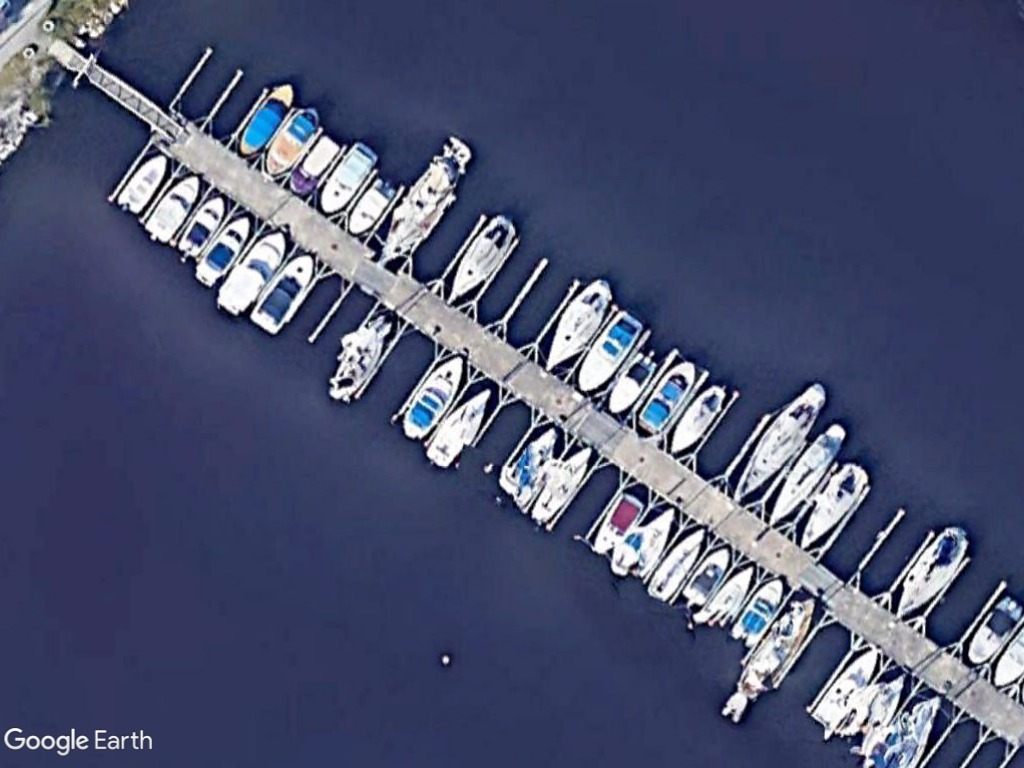boat: (727, 379, 829, 502), (763, 418, 853, 529), (888, 525, 972, 622), (541, 273, 617, 376), (211, 225, 293, 320), (443, 212, 518, 307), (396, 348, 470, 444), (794, 460, 873, 549), (422, 385, 495, 471), (574, 307, 646, 393), (248, 251, 320, 334), (260, 103, 330, 181), (643, 524, 710, 605), (314, 136, 379, 218), (633, 358, 702, 433), (190, 210, 253, 289), (139, 171, 203, 247), (665, 380, 729, 454), (237, 80, 296, 158), (728, 577, 789, 646), (112, 147, 170, 217), (601, 347, 660, 415), (585, 493, 646, 558), (678, 541, 735, 610), (171, 191, 227, 261), (284, 132, 345, 196), (342, 174, 401, 237)
